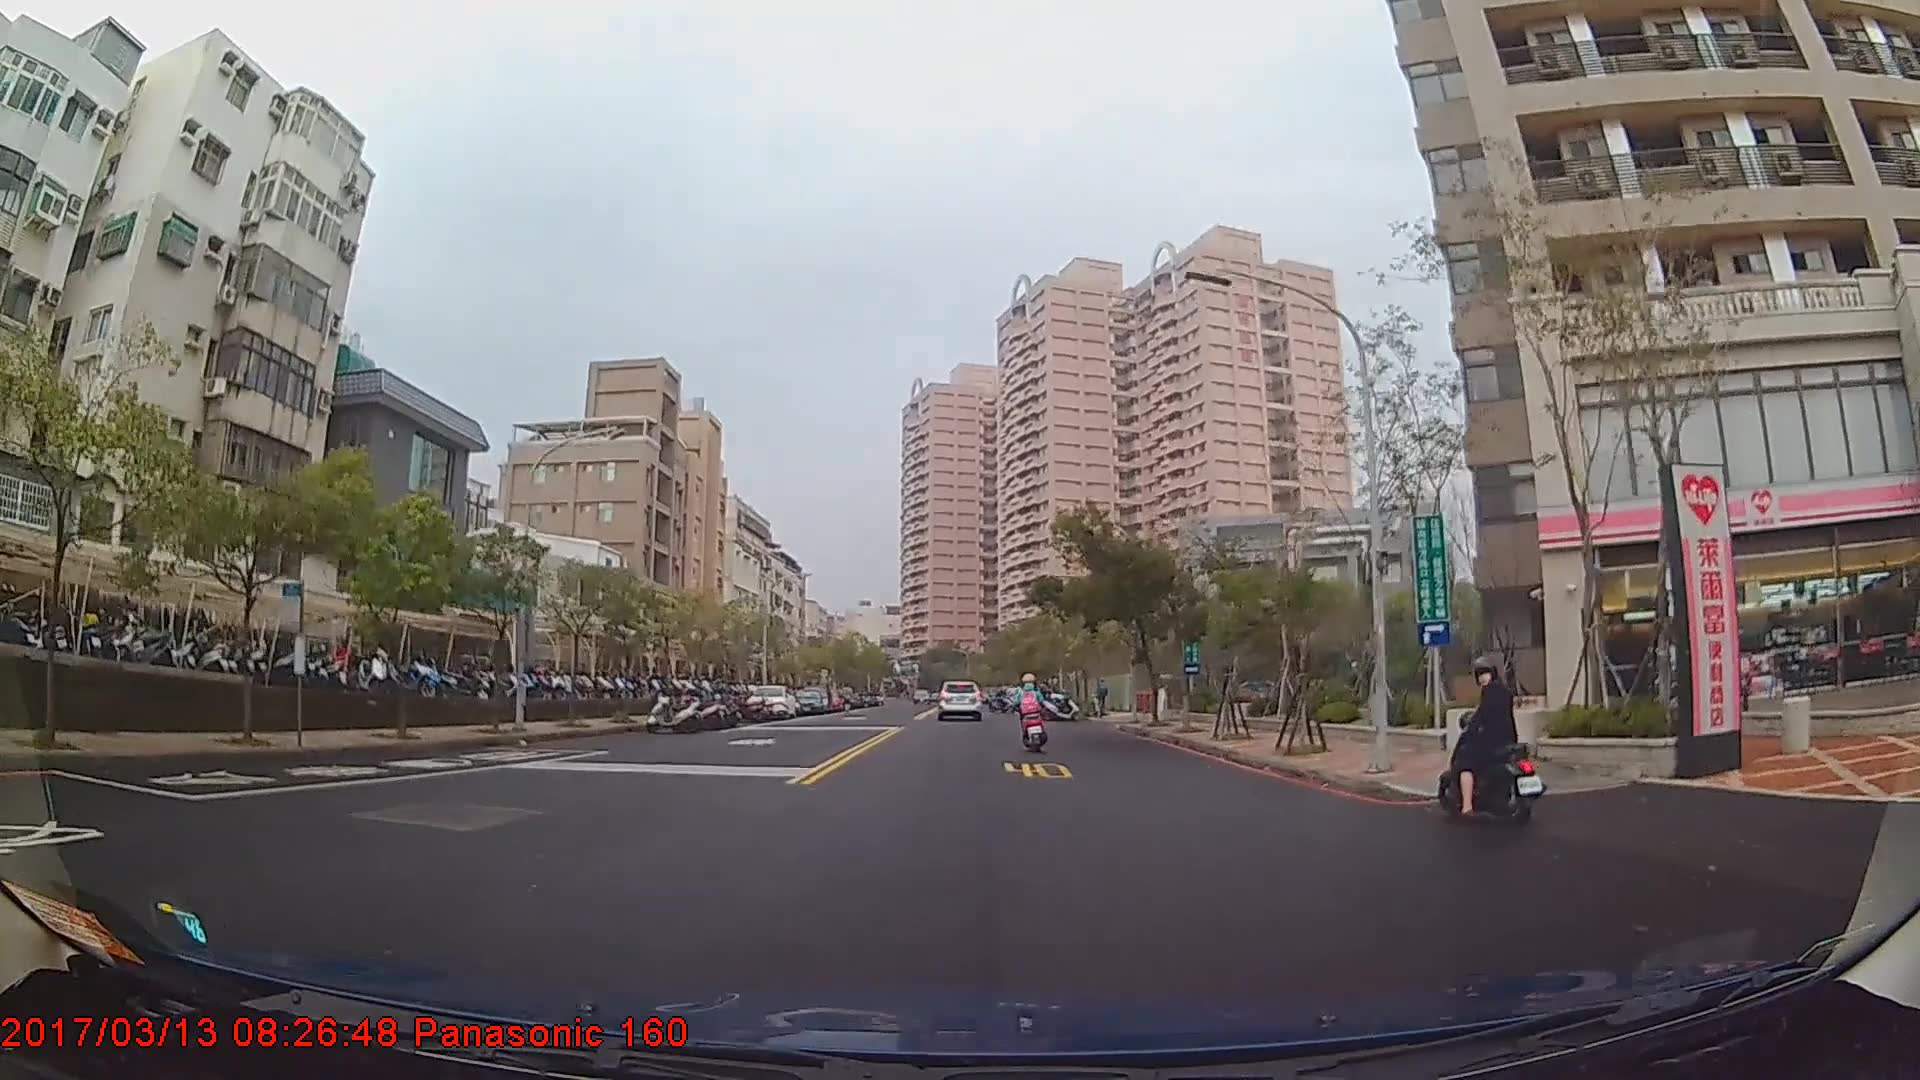rider: (1432, 654, 1554, 826), (1016, 672, 1050, 748)
vehicle: (933, 677, 984, 717), (744, 684, 798, 719), (792, 689, 825, 715)
